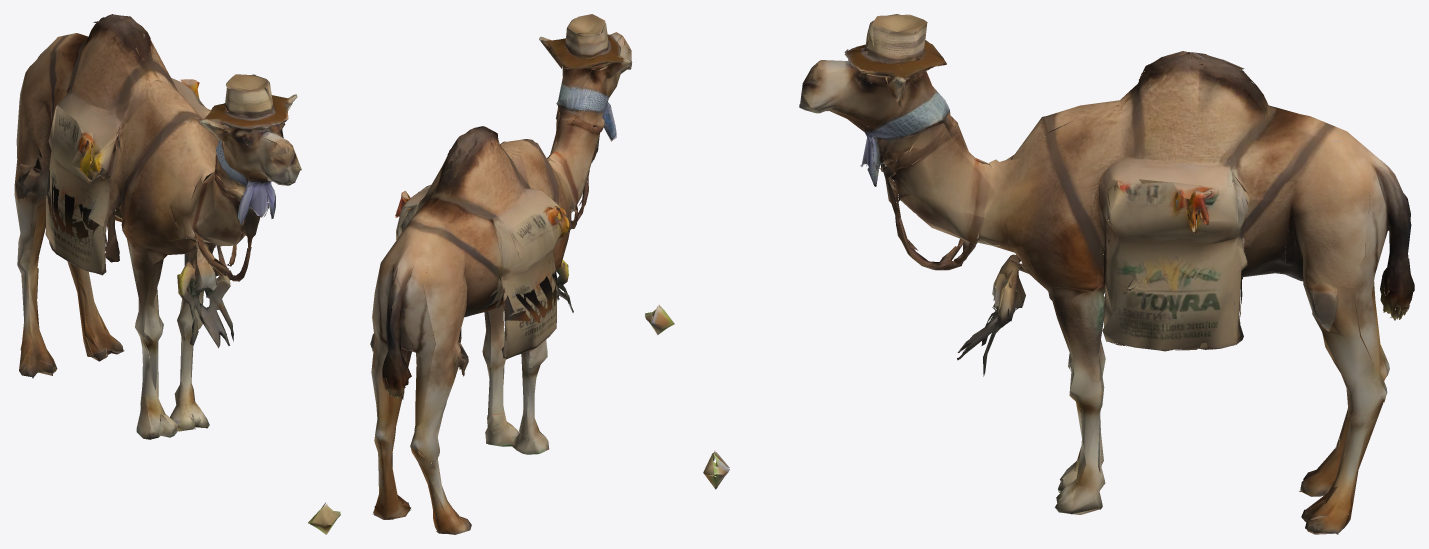
File: camel_standing_decimated.glb
The picture shows the model from 3 angles, left to right: view 1: azimuth 30°, elevation 25°; view 2: azimuth 150°, elevation 25°; view 3: azimuth 270°, elevation 25°; orthographic projection. The views are drawn at different scales.
Parts seen in each view (by area): view 1: Mesh1.0; view 2: Mesh1.0; view 3: Mesh1.0.
Part boxes in pixels (left/top/right/bottom): Mesh1.0: left=14, top=14, right=340, bottom=534; Mesh1.0: left=370, top=14, right=674, bottom=534; Mesh1.0: left=703, top=14, right=1414, bottom=534.
Bounding box in the file's own units: 0.5888 × 1.52 × 2.01.
1 material, 1 textured.
